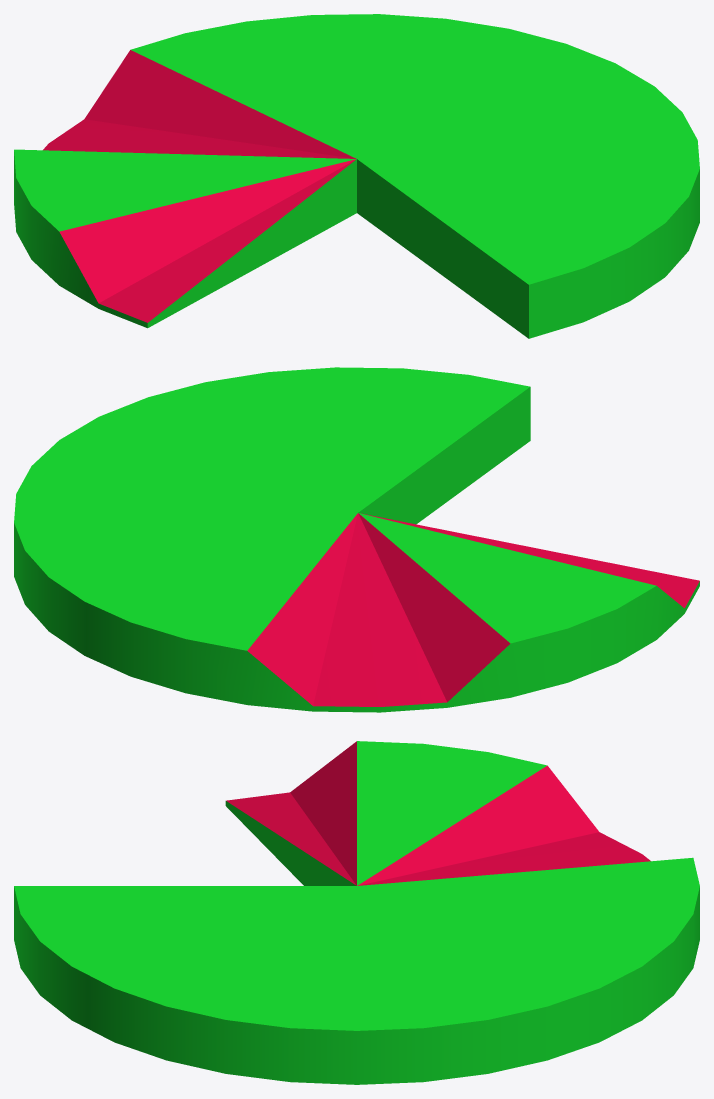
Rendered from Platofrm1.fbx.
The picture shows the model from 3 angles, top to bottom: view 1: azimuth 30°, elevation 25°; view 2: azimuth 150°, elevation 25°; view 3: azimuth 270°, elevation 25°; orthographic projection.
Visible parts, largest first — view 1: Platform 1; view 2: Platform 1; view 3: Platform 1.
Boxes of the visible parts, x1,y1,x2,y2 form: Platform 1: (14, 14, 699, 338); Platform 1: (14, 367, 699, 712); Platform 1: (14, 741, 699, 1084).
Bounding box in the file's own units: 384 × 33.33 × 384.
